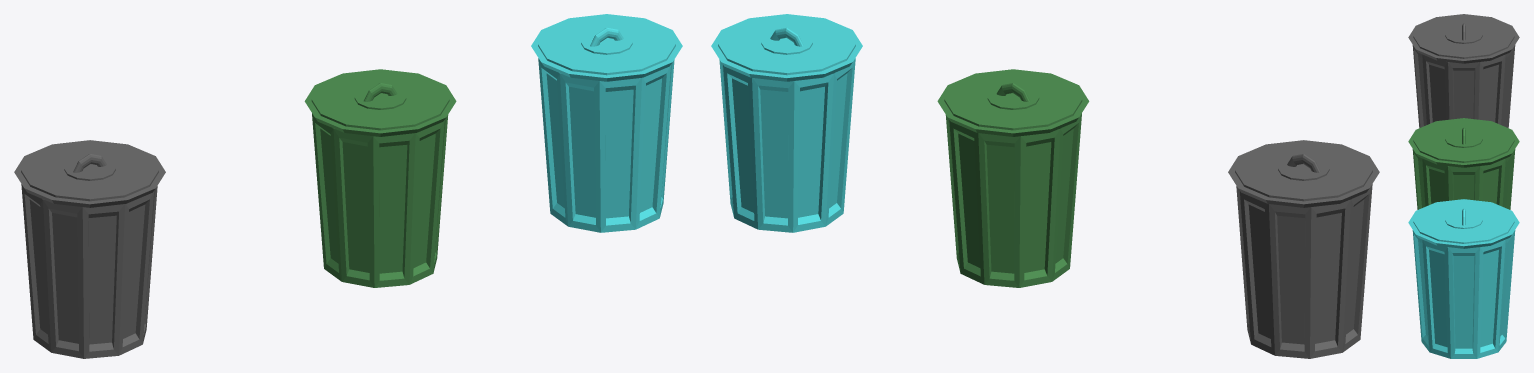
File: trashbin.fbx
3 views of the same model, side by side, from view 1: azimuth 30°, elevation 25°; view 2: azimuth 150°, elevation 25°; view 3: azimuth 270°, elevation 25° (orthographic). The views are drawn at different scales.
Parts seen in each view (by area): view 1: trashbin.001, trashbin.002, trashbin, bin_cover, bin_cover.001, bin_cover.002; view 2: trashbin.001, trashbin.002, trashbin, bin_cover, bin_cover.001, bin_cover.002; view 3: trashbin.001, trashbin.002, bin_cover, bin_cover.001, bin_cover.002, trashbin.
Part boxes in pixels (left/top/right/bottom): trashbin.001: left=538, top=58, right=674, bottom=232; trashbin.002: left=21, top=184, right=157, bottom=358; trashbin: left=312, top=113, right=448, bottom=287; bin_cover: left=304, top=69, right=456, bottom=136; bin_cover.001: left=531, top=14, right=682, bottom=81; bin_cover.002: left=14, top=140, right=165, bottom=207; trashbin.001: left=719, top=58, right=855, bottom=232; trashbin.002: left=1236, top=184, right=1372, bottom=358; trashbin: left=945, top=113, right=1081, bottom=287; bin_cover: left=937, top=69, right=1089, bottom=136; bin_cover.001: left=711, top=14, right=862, bottom=81; bin_cover.002: left=1228, top=140, right=1379, bottom=207; trashbin.001: left=1412, top=230, right=1515, bottom=358; trashbin.002: left=1412, top=45, right=1515, bottom=127; bin_cover: left=1408, top=118, right=1519, bottom=167; bin_cover.001: left=1408, top=199, right=1519, bottom=248; bin_cover.002: left=1408, top=14, right=1519, bottom=63; trashbin: left=1412, top=149, right=1515, bottom=209.
Size of the model in its own units: 1296 by 345 by 263.
